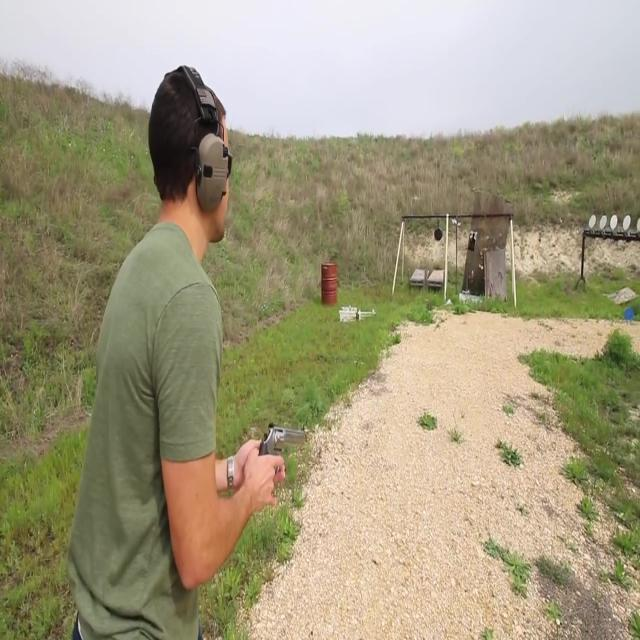Weapon: (237, 382, 330, 546)
